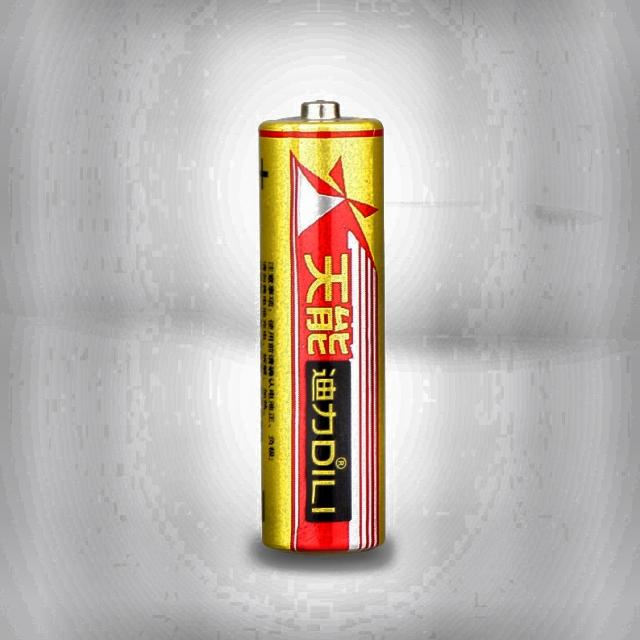Non-Valuable Waste - Batteries: (260, 102, 384, 553)
